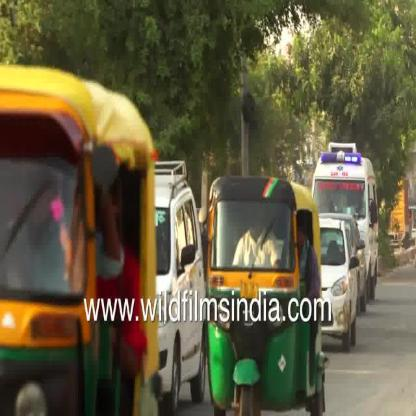priority: (310, 137, 378, 213)
